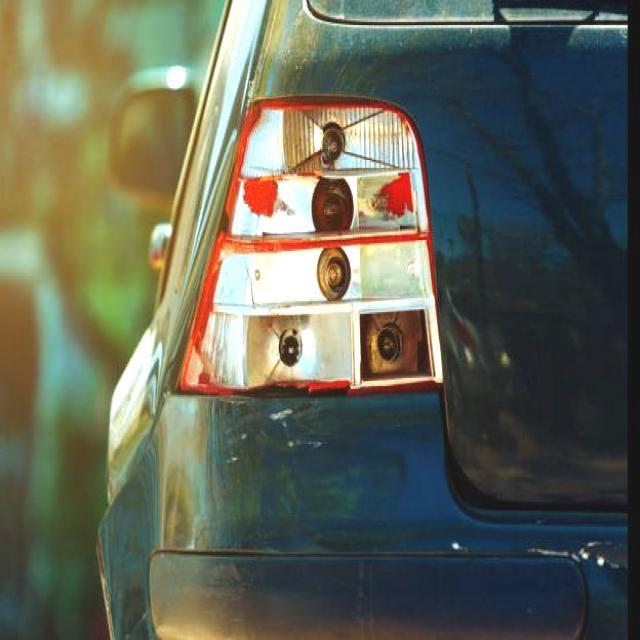minor: (199, 399, 320, 530)
moderate: (170, 104, 440, 400), (454, 548, 619, 574)
